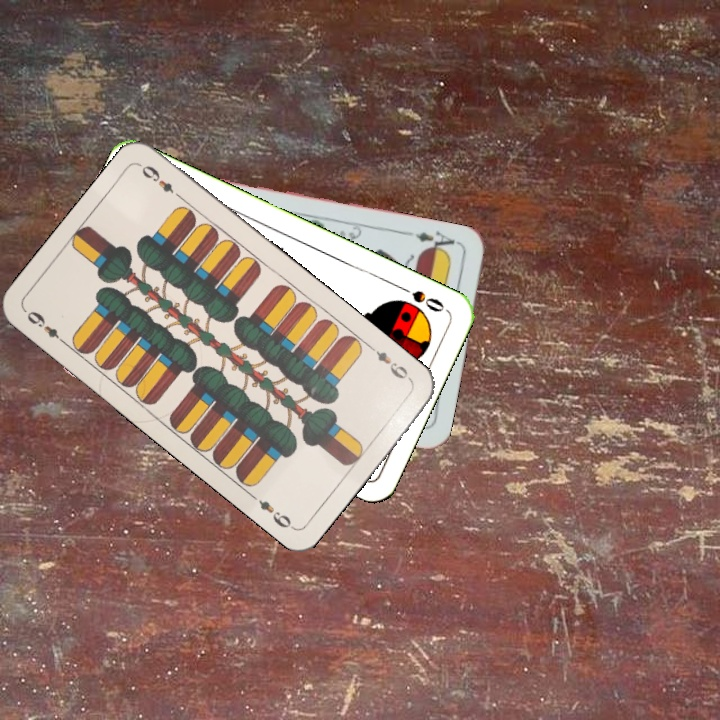E9: (365, 342, 415, 385), (23, 306, 71, 349)
EA: (411, 227, 462, 257)
SO: (395, 281, 450, 315)
